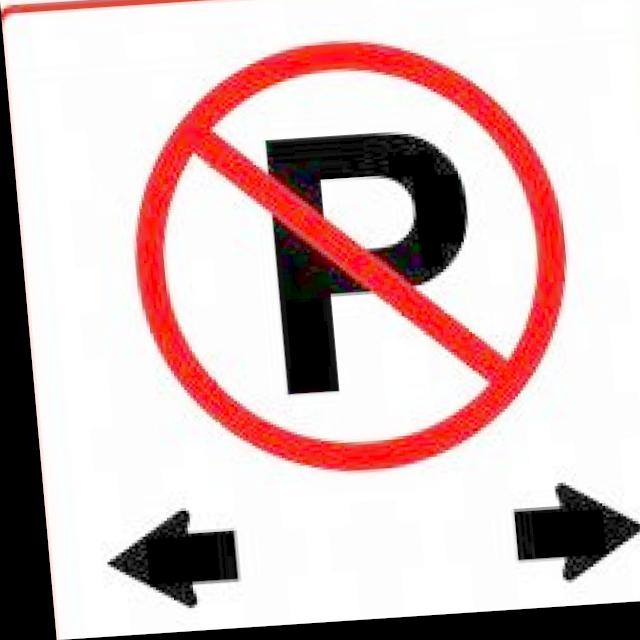NO_PARKING: (115, 33, 579, 490)
